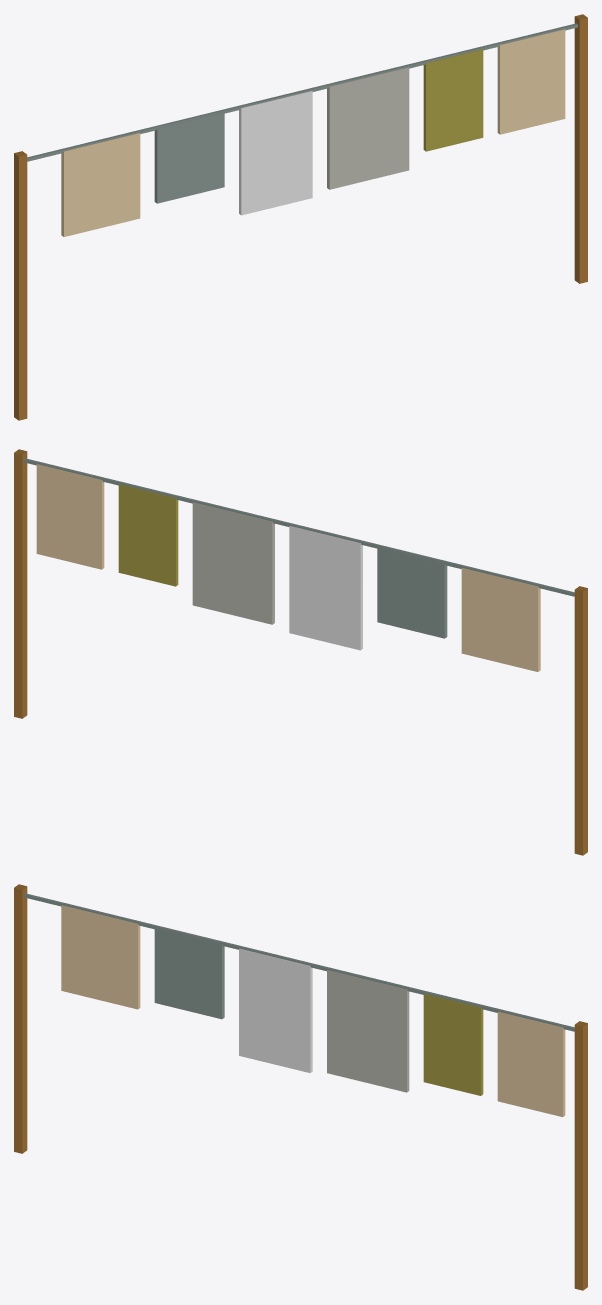
The model's file is SM_Tendedero_v0_Cuerda_LOD0.fbx.
The picture shows the model from 3 angles, top to bottom: view 1: azimuth 30°, elevation 25°; view 2: azimuth 150°, elevation 25°; view 3: azimuth 330°, elevation 25°; orthographic projection.
Parts seen in each view (by area): view 1: SM_vida_fuerte_v5_LOD0; view 2: SM_vida_fuerte_v5_LOD0; view 3: SM_vida_fuerte_v5_LOD0.
Part boxes in pixels (bbox=[...]): SM_vida_fuerte_v5_LOD0: bbox=[14, 14, 587, 420]; SM_vida_fuerte_v5_LOD0: bbox=[14, 449, 587, 855]; SM_vida_fuerte_v5_LOD0: bbox=[14, 884, 587, 1290].
Size of the model in its own units: 4.06 by 1.8 by 0.06.
